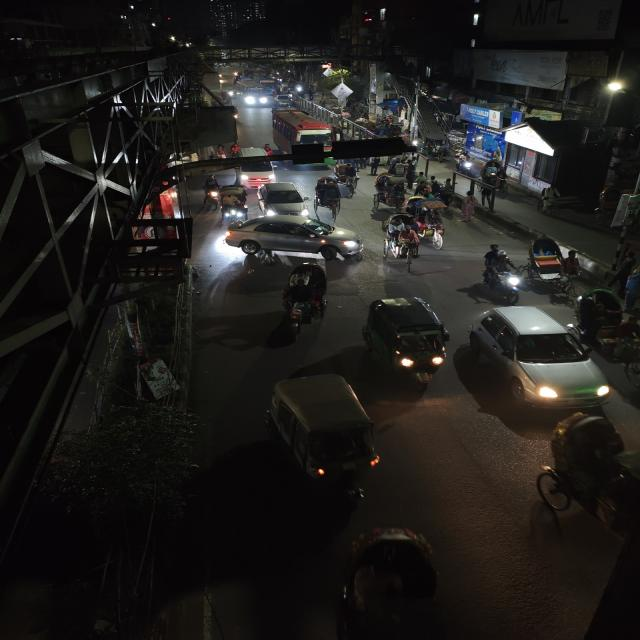bus: (270, 109, 335, 150), (233, 74, 275, 108)
car: (467, 302, 612, 411), (220, 216, 366, 262), (255, 181, 314, 219), (240, 160, 281, 184)
cng: (262, 372, 388, 490), (361, 294, 454, 386)
motorcycle: (479, 246, 527, 298)
pedestrian: (621, 264, 640, 314), (371, 173, 396, 205), (459, 191, 480, 226), (342, 164, 362, 192), (429, 174, 444, 197), (367, 155, 382, 175)
rickshaw: (274, 260, 335, 334), (523, 243, 584, 290), (382, 213, 424, 263), (406, 200, 449, 247), (312, 174, 345, 222), (214, 189, 250, 225)
